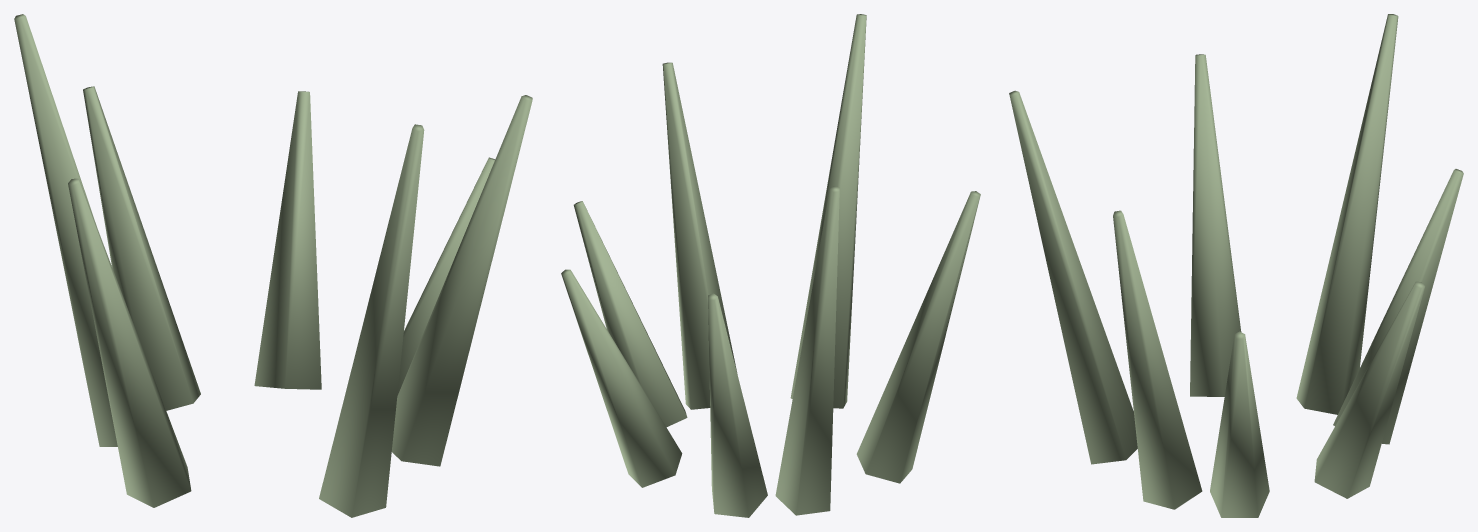
The model's file is Tuft0_S130.fbx.
3 views of the same model, side by side, from view 1: azimuth 30°, elevation 25°; view 2: azimuth 150°, elevation 25°; view 3: azimuth 270°, elevation 25° (orthographic). The views are drawn at different scales.
Parts seen in each view (by area): view 1: Tuft0_S130; view 2: Tuft0_S130; view 3: Tuft0_S130.
Part boxes in pixels (bbox=[...]): Tuft0_S130: bbox=[14, 14, 532, 517]; Tuft0_S130: bbox=[561, 14, 980, 517]; Tuft0_S130: bbox=[1009, 14, 1463, 517].
Size of the model in its own units: 85.26 by 84.42 by 76.02.
